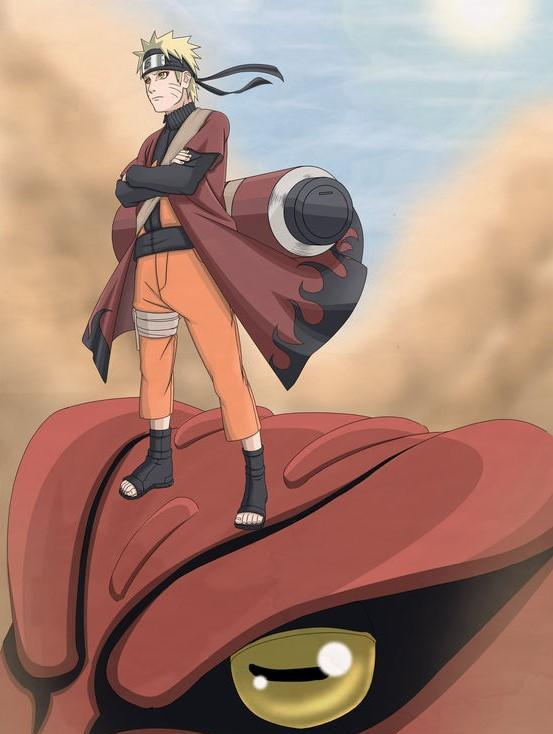naruto: (134, 47, 194, 118)
